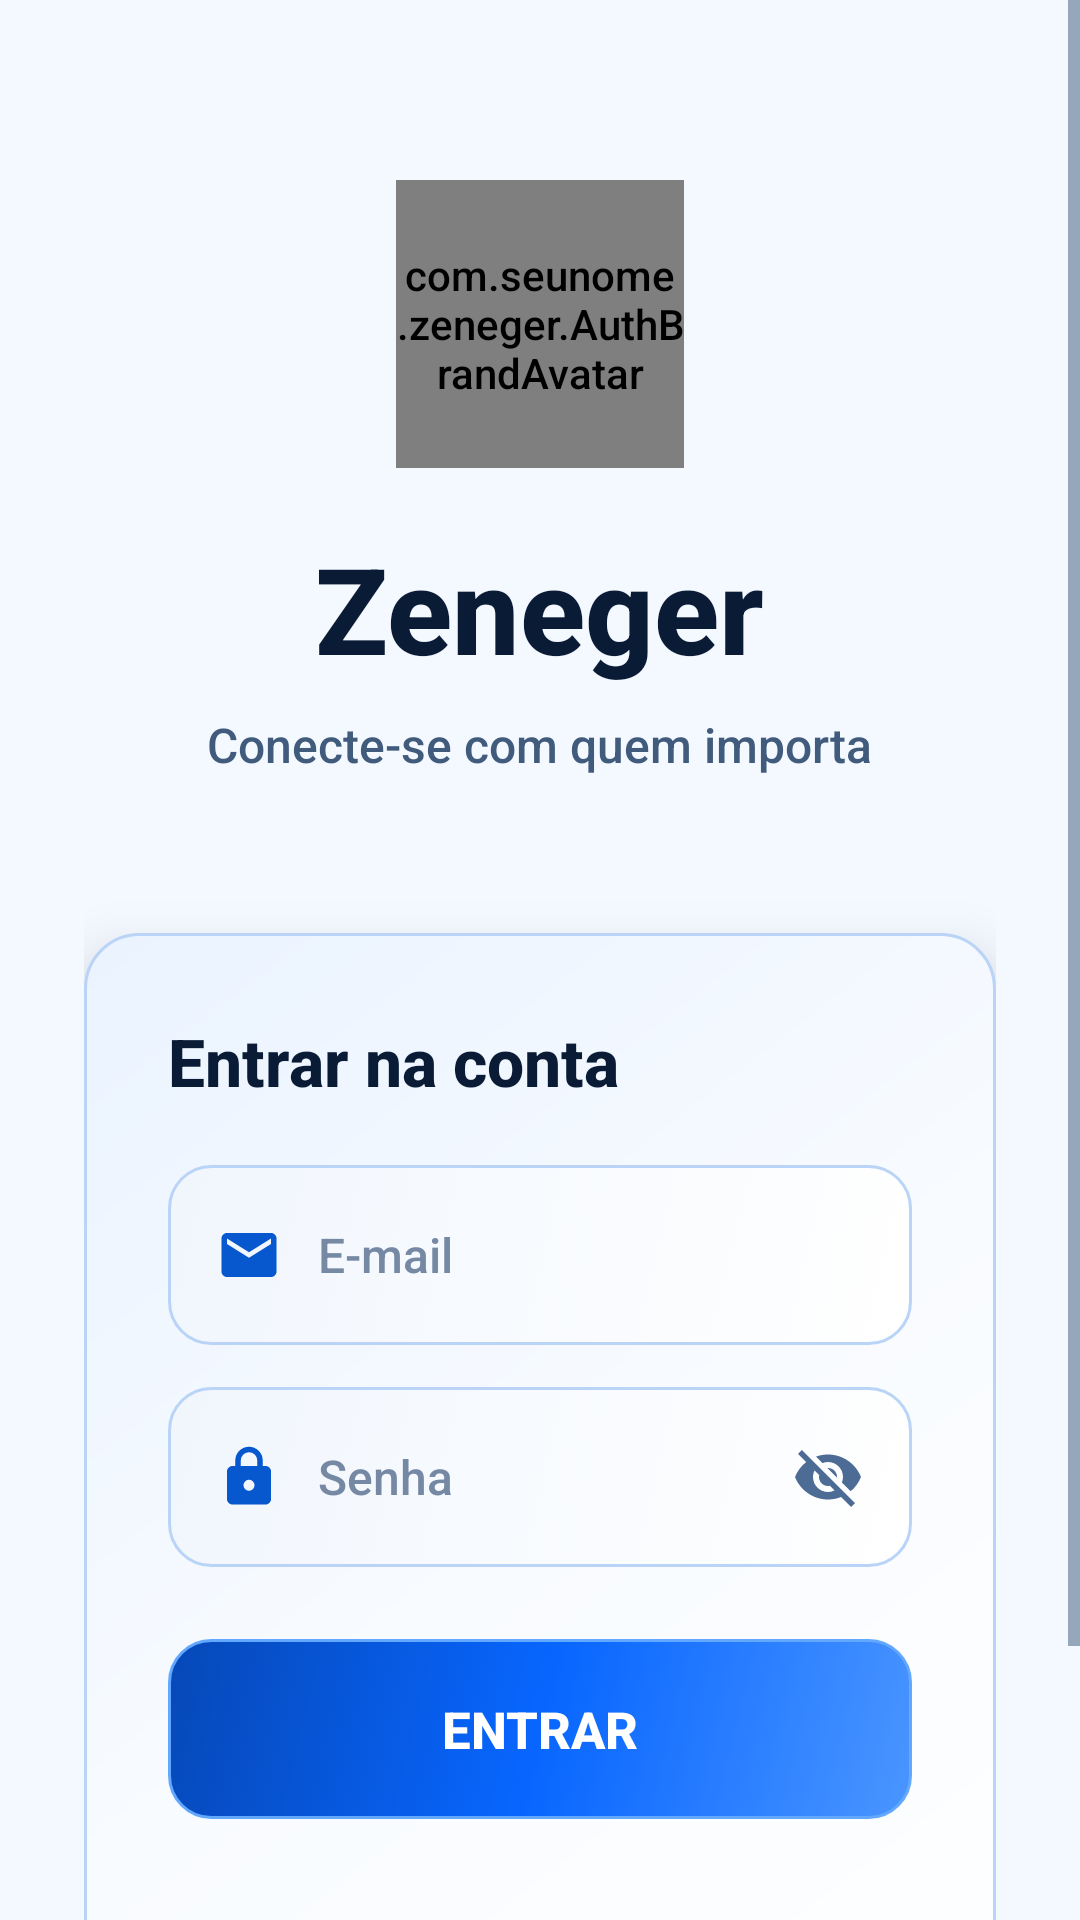

Named icons in this screenshot (1080×1920) and their centers, point (x, y):
zen lock: point (249, 1475)
